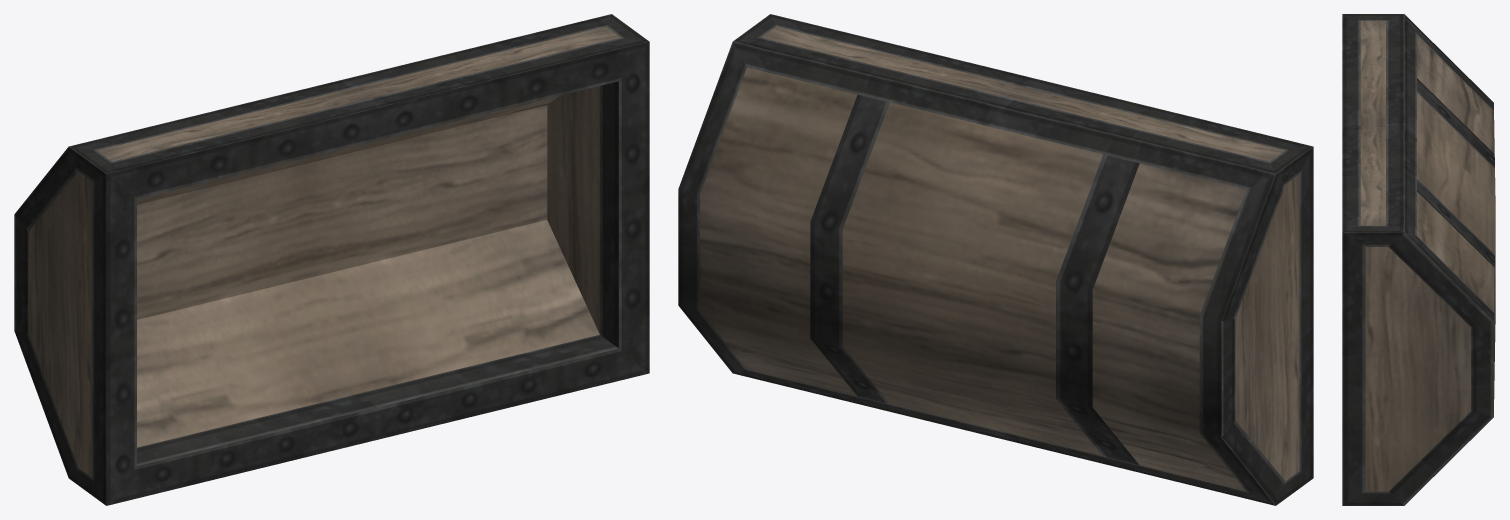
Rendered from Chest_B_Metal_Top.fbx.
The picture shows the model from 3 angles, left to right: view 1: azimuth 30°, elevation 25°; view 2: azimuth 150°, elevation 25°; view 3: azimuth 270°, elevation 25°; orthographic projection. The views are drawn at different scales.
Parts seen in each view (by area): view 1: Chest_B_Metal_Top; view 2: Chest_B_Metal_Top; view 3: Chest_B_Metal_Top.
Part boxes in pixels (bbox=[...]): Chest_B_Metal_Top: bbox=[14, 14, 649, 505]; Chest_B_Metal_Top: bbox=[678, 14, 1313, 505]; Chest_B_Metal_Top: bbox=[1342, 14, 1495, 505].
Bounding box in the file's own units: 1.25 × 0.7272 × 0.3701.
